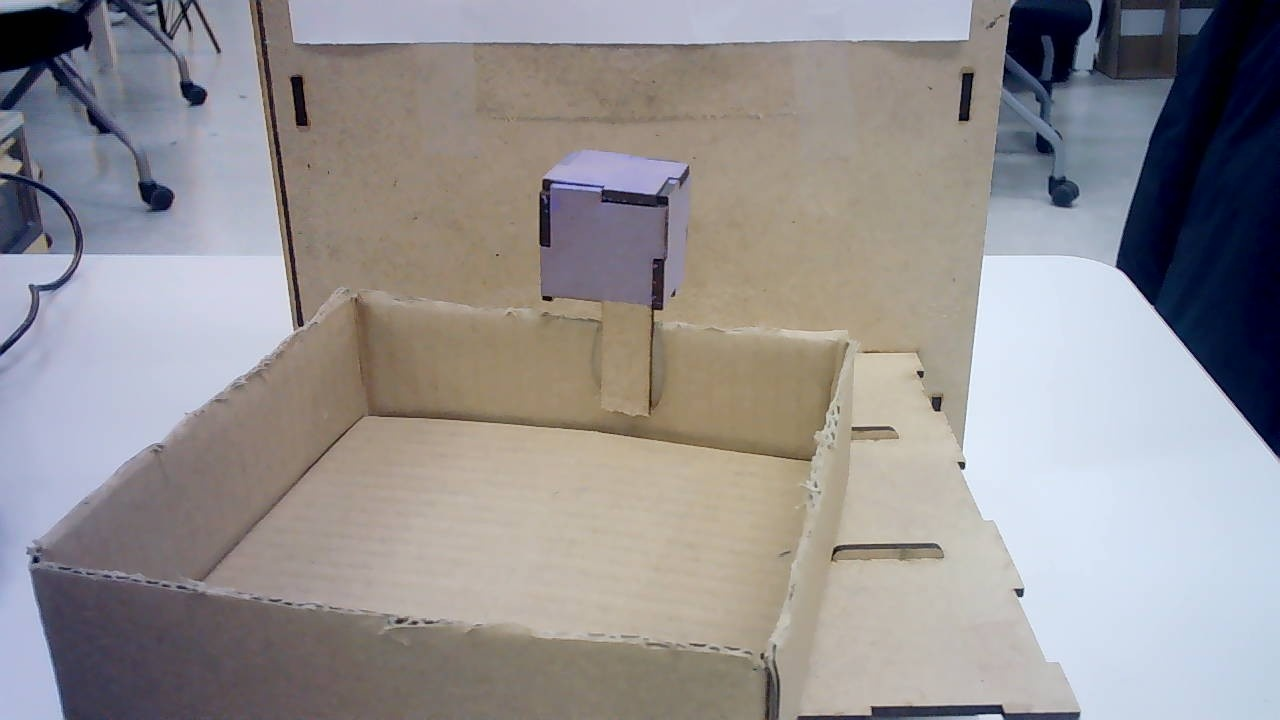pulple box: (538, 144, 693, 305)
